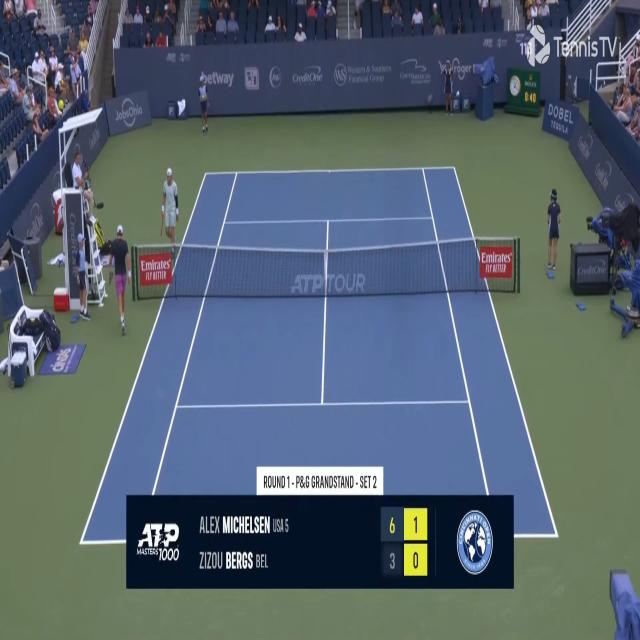tennis-player: (105, 222, 136, 336), (159, 165, 180, 253)
